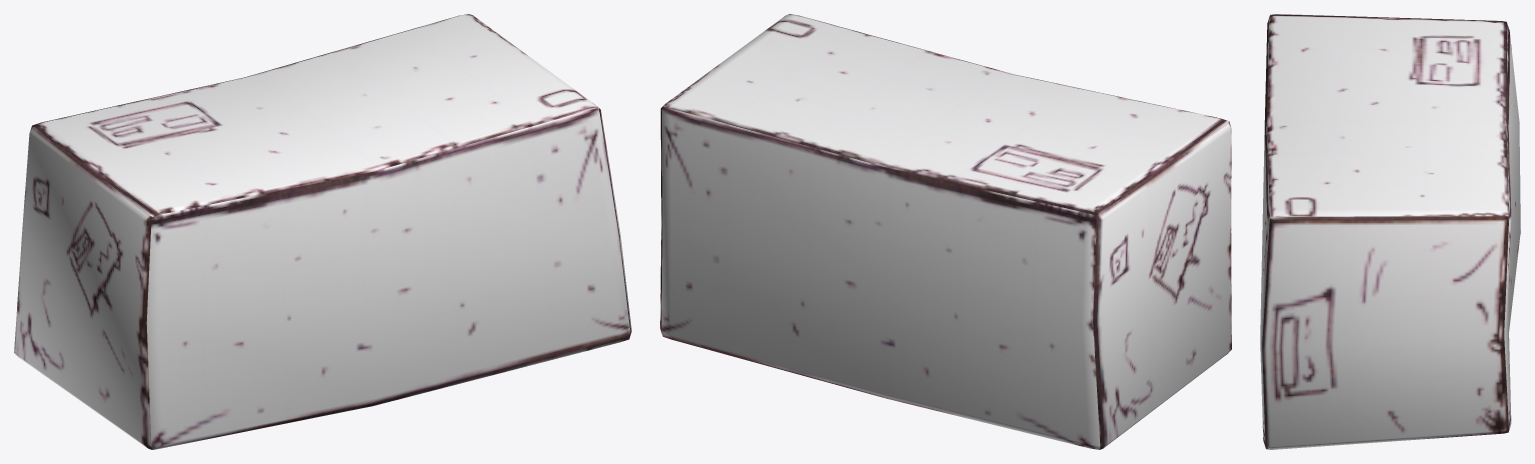
The picture shows the model from 3 angles, left to right: view 1: azimuth 30°, elevation 25°; view 2: azimuth 150°, elevation 25°; view 3: azimuth 270°, elevation 25°; orthographic projection. The views are drawn at different scales.
Parts seen in each view (by area): view 1: CardboardBox 4; view 2: CardboardBox 4; view 3: CardboardBox 4.
Part boxes in pixels (box(x1,y1,x2,y2)): CardboardBox 4: box(14, 14, 631, 449); CardboardBox 4: box(660, 14, 1231, 449); CardboardBox 4: box(1260, 14, 1520, 449).
Bounding box in the file's own units: 103 × 49.68 × 51.35.
1 material, 1 textured.
